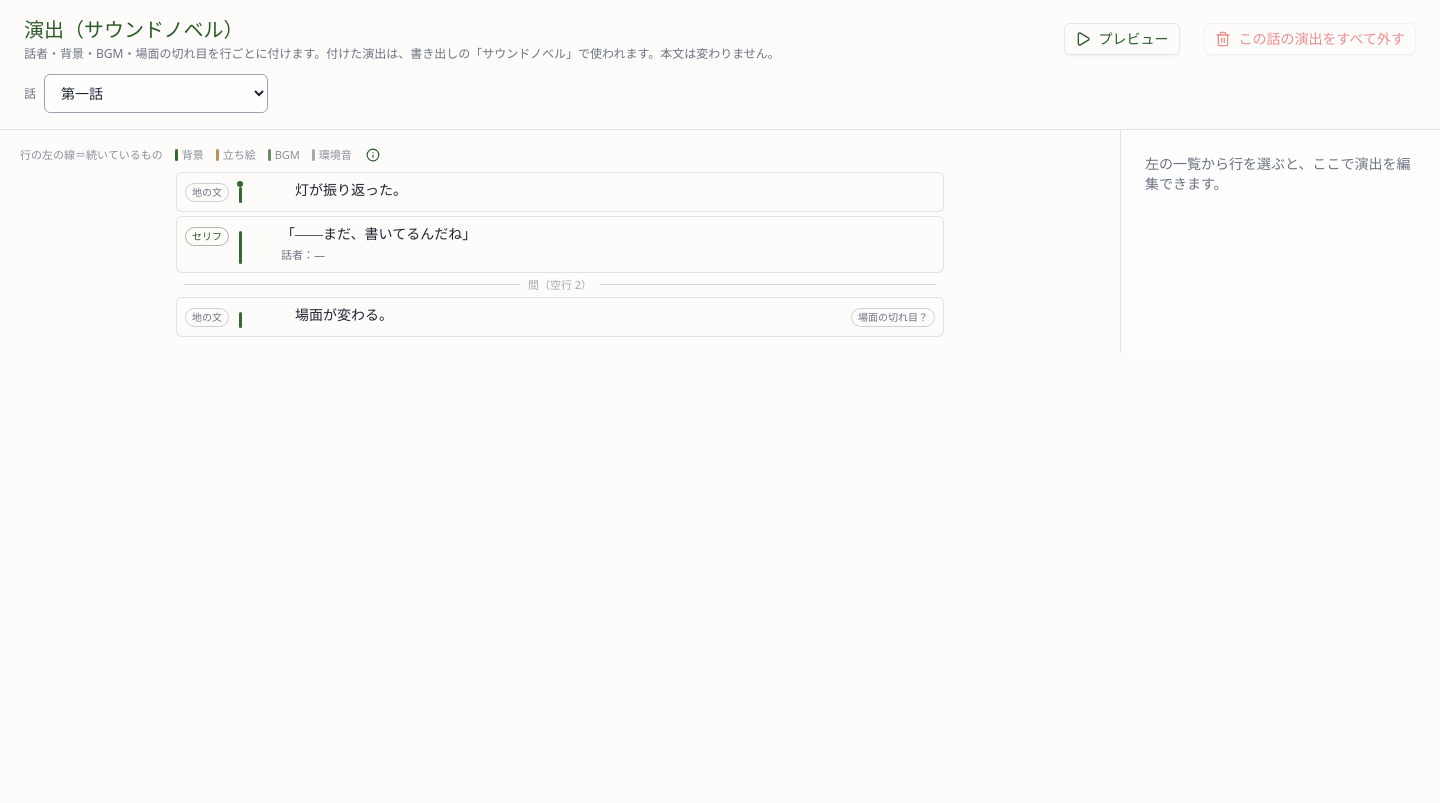
Test: StagingView（演出エディタ） › 場面の切れ目スイッチと背景選択が cue に載る
# 既定のテキストマッチャは前後の空白（字下げの全角空白）を正規化する
Click the text "場面が変わる。" at (337, 316), box [281,308,393,323]
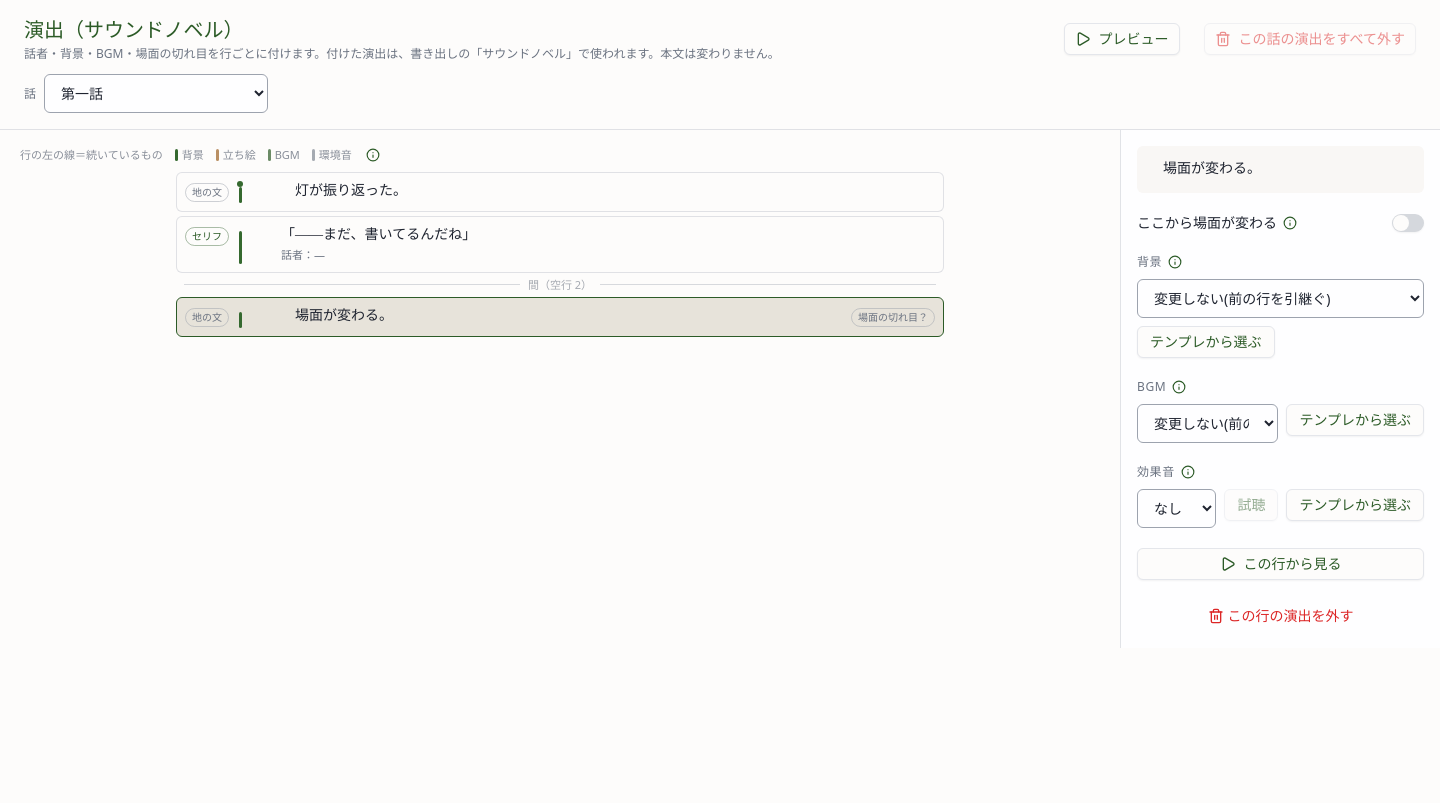
Click the switch named "ここから場面が変わる" at (1408, 223), box [1392,214,1424,232]
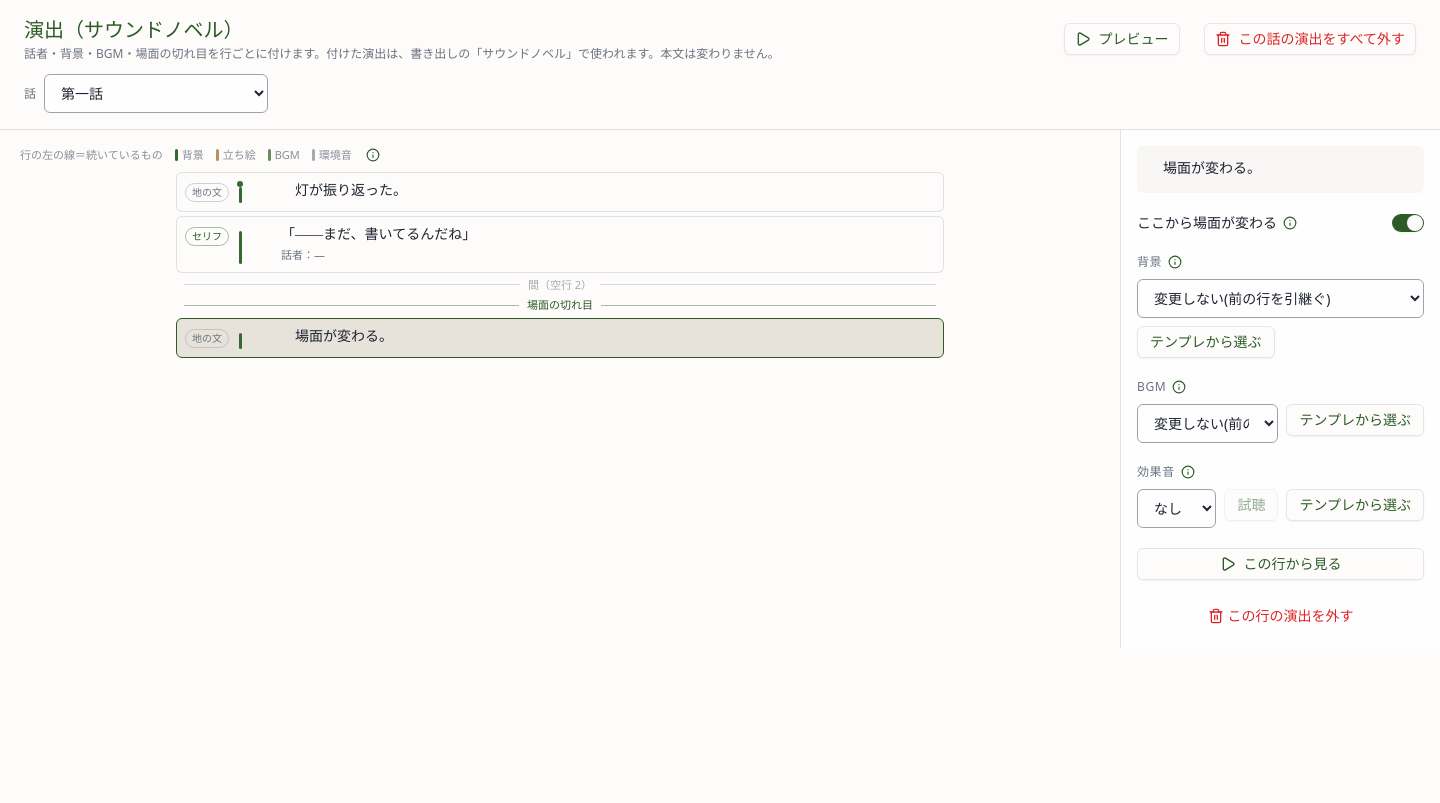
Select "室内（夜）" in the dropdown labelled "背景" at (1280, 298), box [1137,279,1424,318]
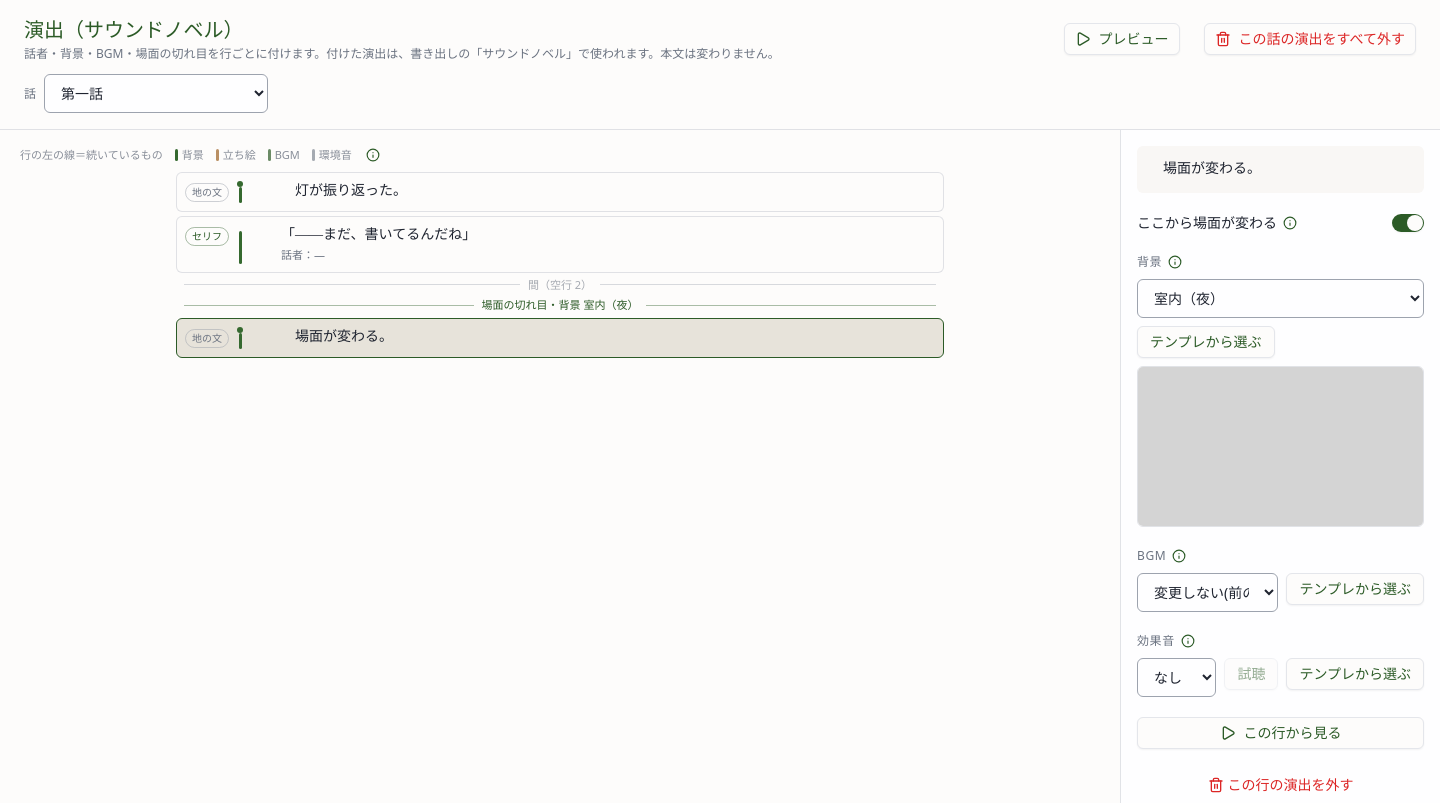
Expected: the field labelled "切り替え方" is not shown
Click the switch named "ここから場面が変わる" at (1408, 223), box [1392,214,1424,232]
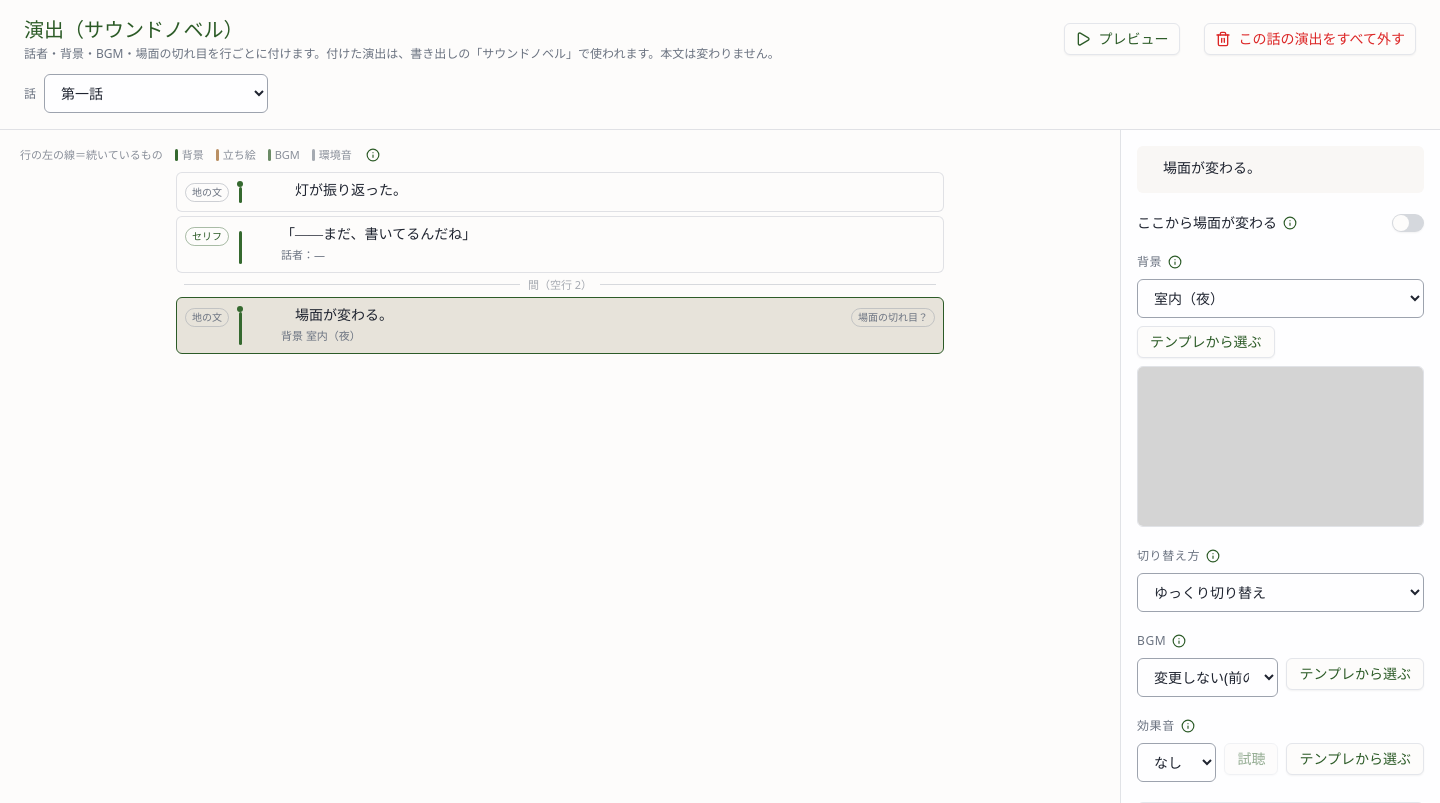
Expected: the dropdown labelled "切り替え方" is shown, [1137,573,1424,612]
